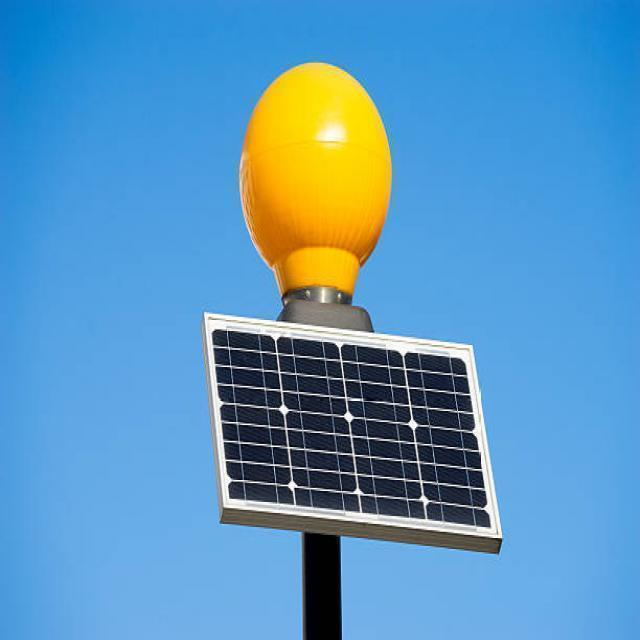Normal Solar Panel: (204, 316, 505, 539)
